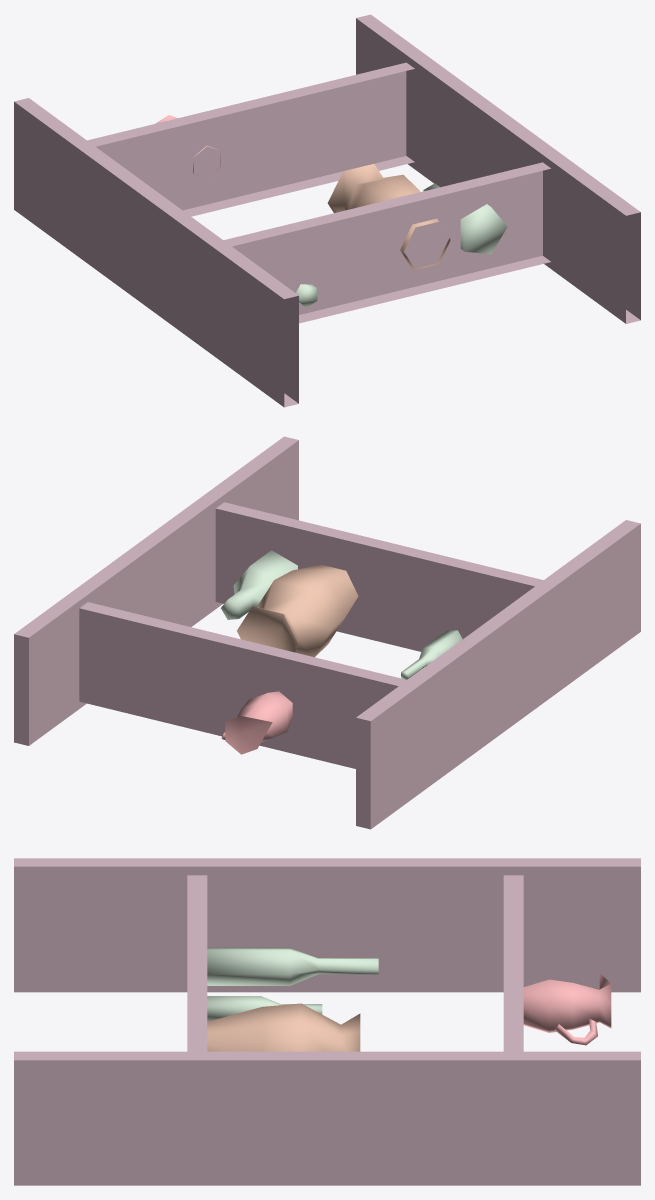
The picture shows the model from 3 angles, top to bottom: view 1: azimuth 30°, elevation 25°; view 2: azimuth 150°, elevation 25°; view 3: azimuth 270°, elevation 25°; orthographic projection. The views are drawn at different scales.
Parts seen in each view (by area): view 1: Object53; view 2: Object53; view 3: Object53.
Boxes of the visible parts, <box> form: Object53: <box>14,14,640,407</box>; Object53: <box>14,436,640,829</box>; Object53: <box>14,858,640,1185</box>.
Bounding box in the file's own units: 16018 × 4643 × 21007.
